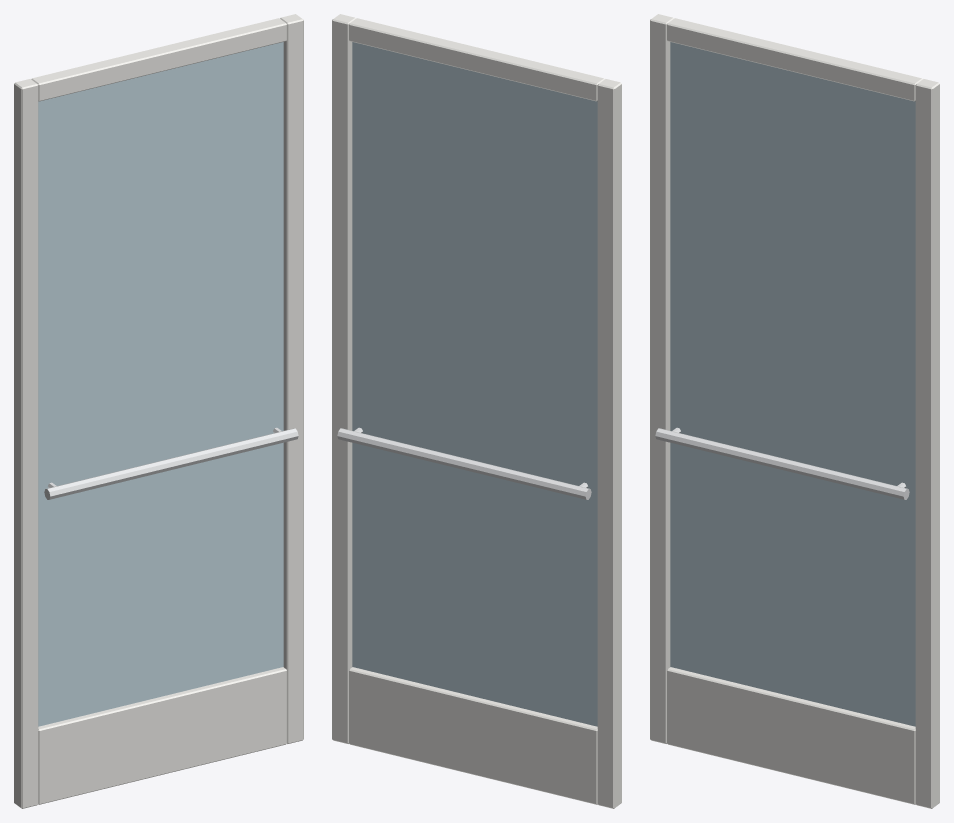
Rendered from door_glass.glb.
The picture shows the model from 3 angles, left to right: view 1: azimuth 30°, elevation 25°; view 2: azimuth 150°, elevation 25°; view 3: azimuth 330°, elevation 25°; orthographic projection.
Visible parts, largest first — view 1: door_glass_glass, door_glass_frame, door_glass_chrome; view 2: door_glass_glass, door_glass_frame, door_glass_chrome; view 3: door_glass_glass, door_glass_frame, door_glass_chrome.
Part boxes in pixels (bbox=[...]): door_glass_glass: bbox=[38, 42, 283, 726]; door_glass_frame: bbox=[14, 14, 303, 808]; door_glass_chrome: bbox=[44, 427, 298, 499]; door_glass_glass: bbox=[352, 42, 597, 726]; door_glass_frame: bbox=[332, 14, 621, 808]; door_glass_chrome: bbox=[337, 427, 591, 499]; door_glass_glass: bbox=[670, 42, 915, 726]; door_glass_frame: bbox=[650, 14, 939, 808]; door_glass_chrome: bbox=[655, 427, 909, 499].
Bounding box in the file's own units: 0.98 × 2.39 × 0.186.
